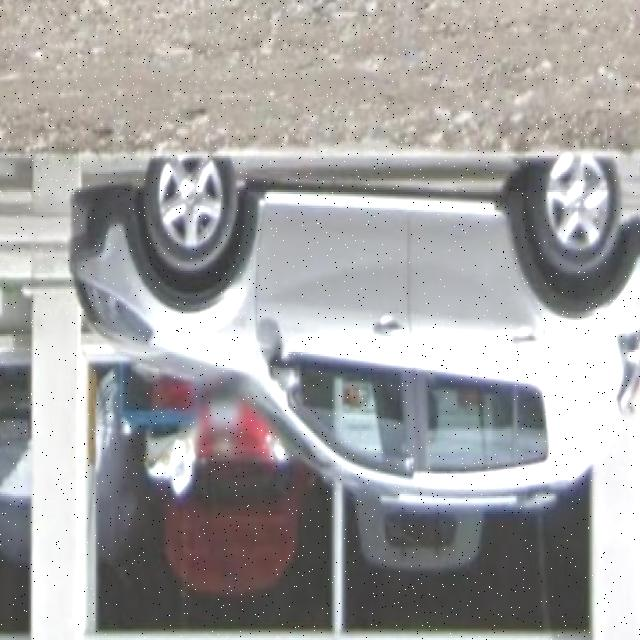car: (63, 151, 640, 512)
